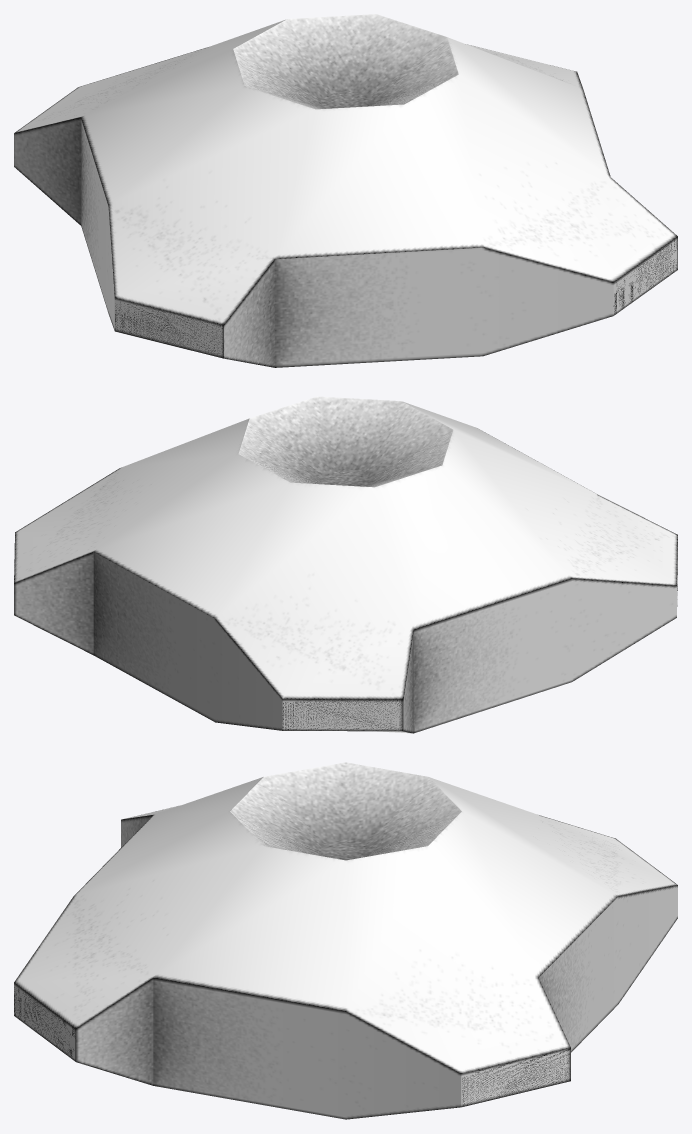
The model's file is enemyShielder.dae.
3 renders of one model, top to bottom at view 1: azimuth 30°, elevation 25°; view 2: azimuth 150°, elevation 25°; view 3: azimuth 270°, elevation 25°, orthographic. The views are drawn at different scales.
Visible parts, largest first — view 1: Mesh; view 2: Mesh; view 3: Mesh.
Part boxes in pixels (x1,y1,x2,y2): Mesh: [14, 14, 677, 367]; Mesh: [14, 396, 677, 733]; Mesh: [14, 762, 677, 1119].
Bounding box in the file's own units: 3.22 × 1.03 × 3.22.
Materials: 1 (1 with a texture image).
